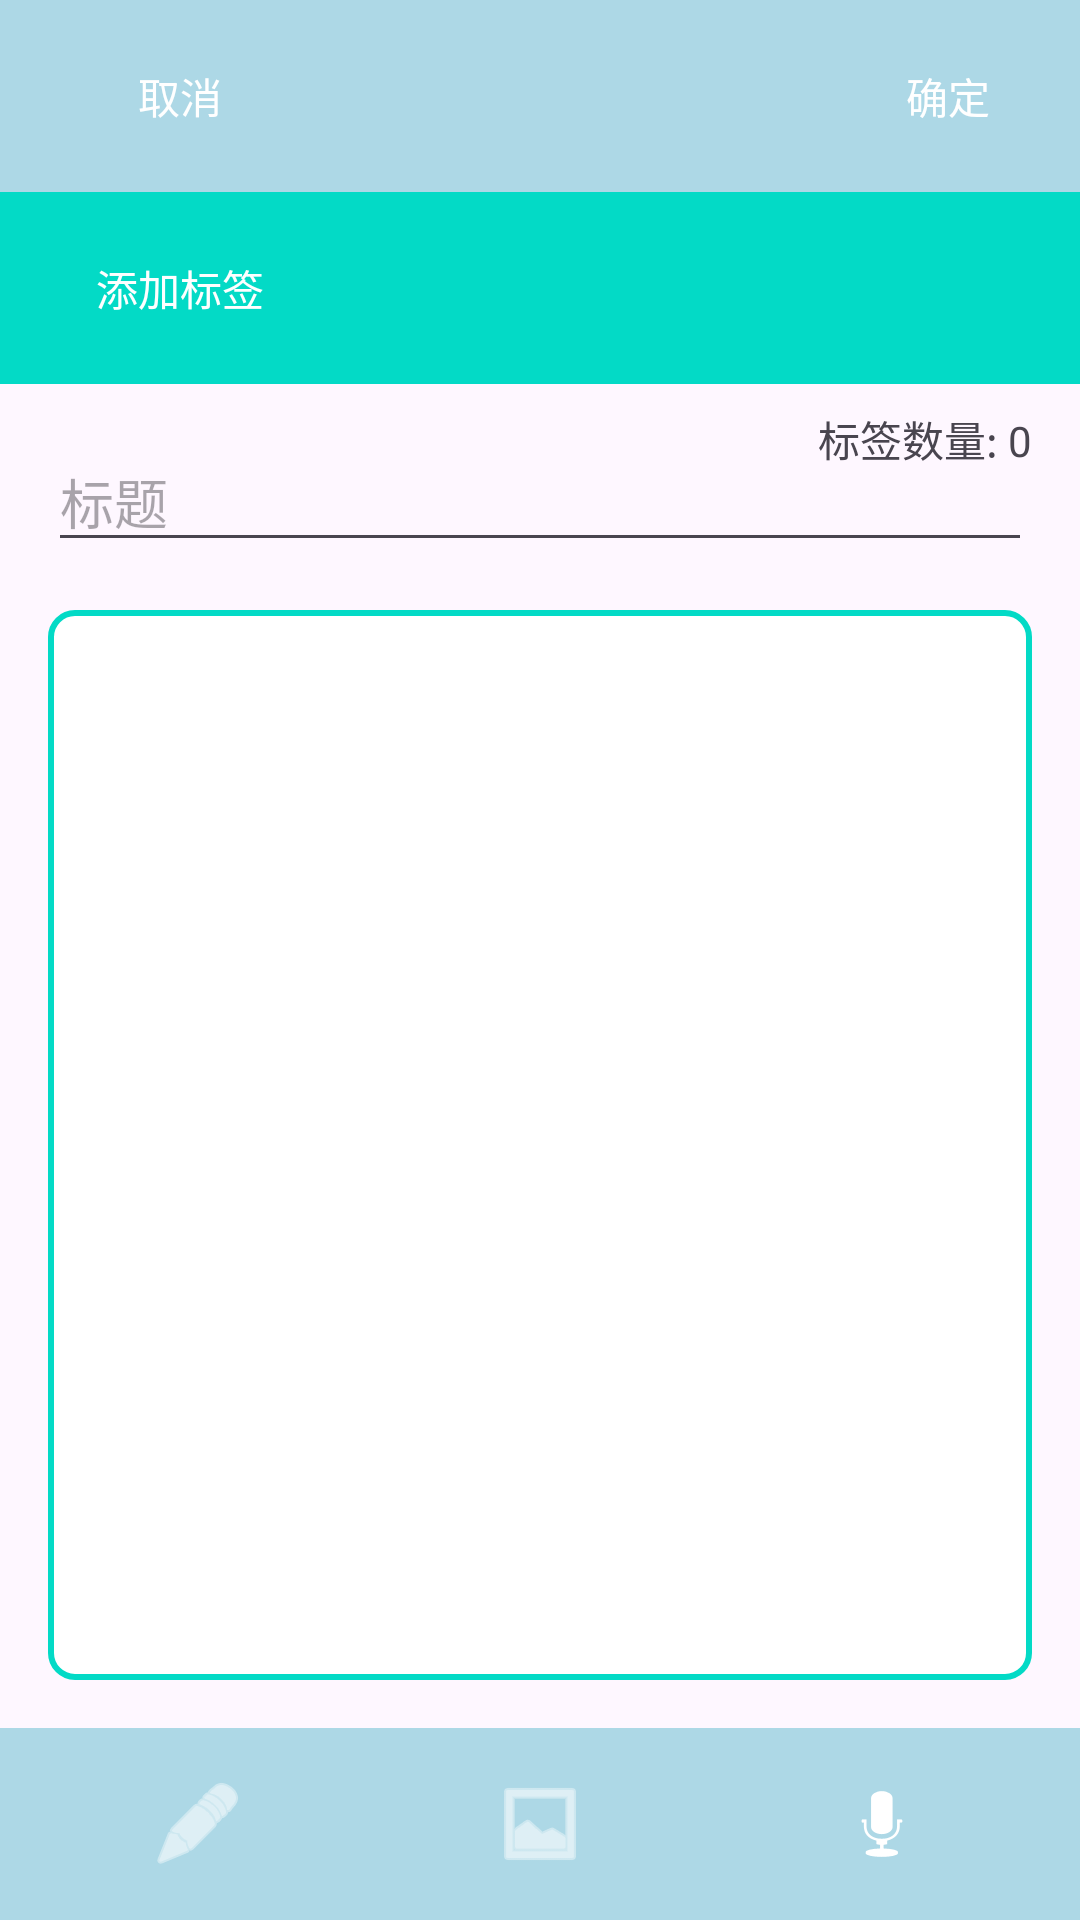

Icon click points for this 1080px×1920px phone screenshot, format (x,y):
图片: (540,1824)
录音: (882,1824)
